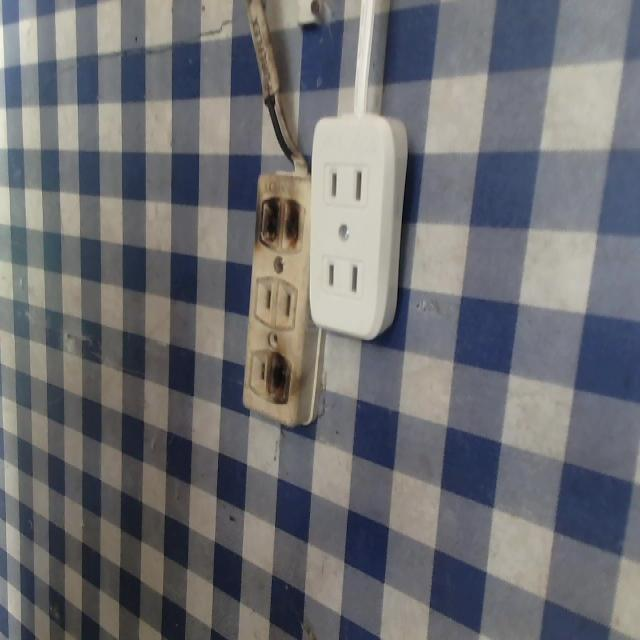-: (256, 189, 304, 251), (265, 342, 296, 402)
